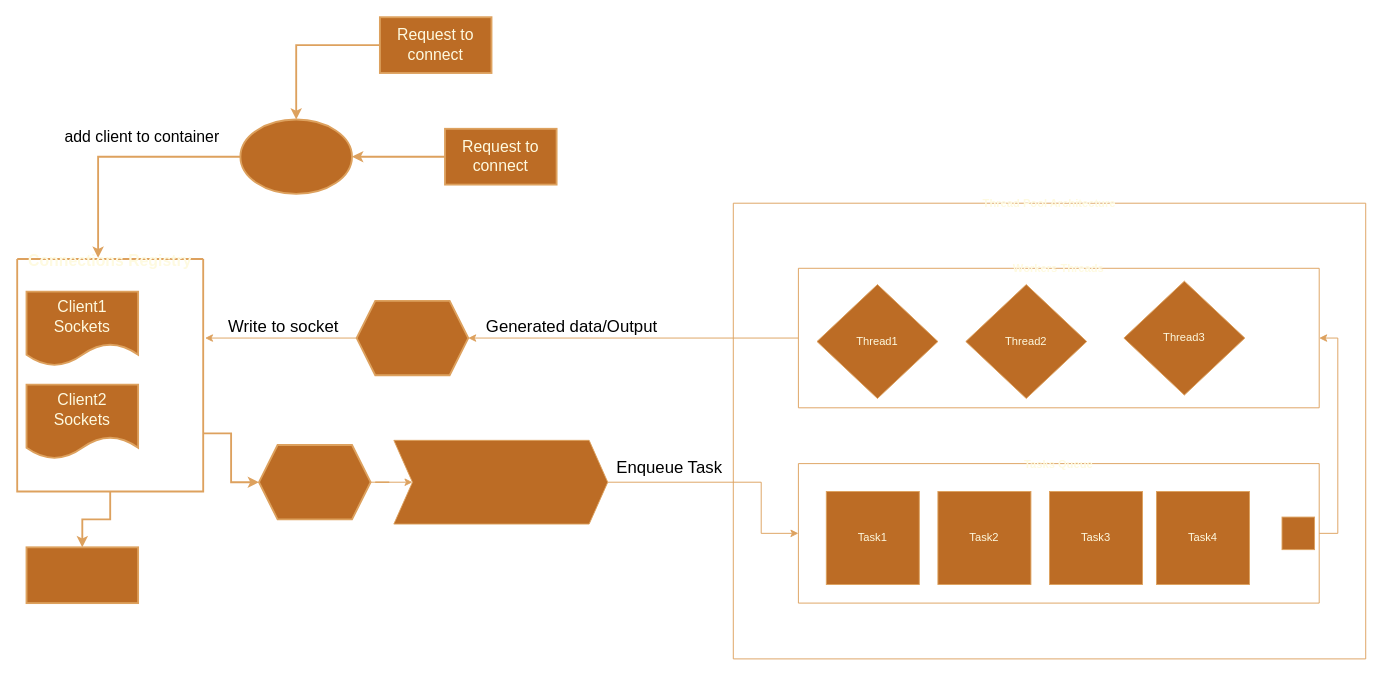
This 1382x675 diagram has some shape labels left out. The centre of each missing label's shape, as x and y in pixels:
"Client command" goes at point 314,482.
"client quits" goes at point 82,575.
"Command Dispatcher" goes at point 500,481.
"Output" goes at point 412,337.
"Server" goes at point 295,156.
"Task5" goes at point 1298,533.
